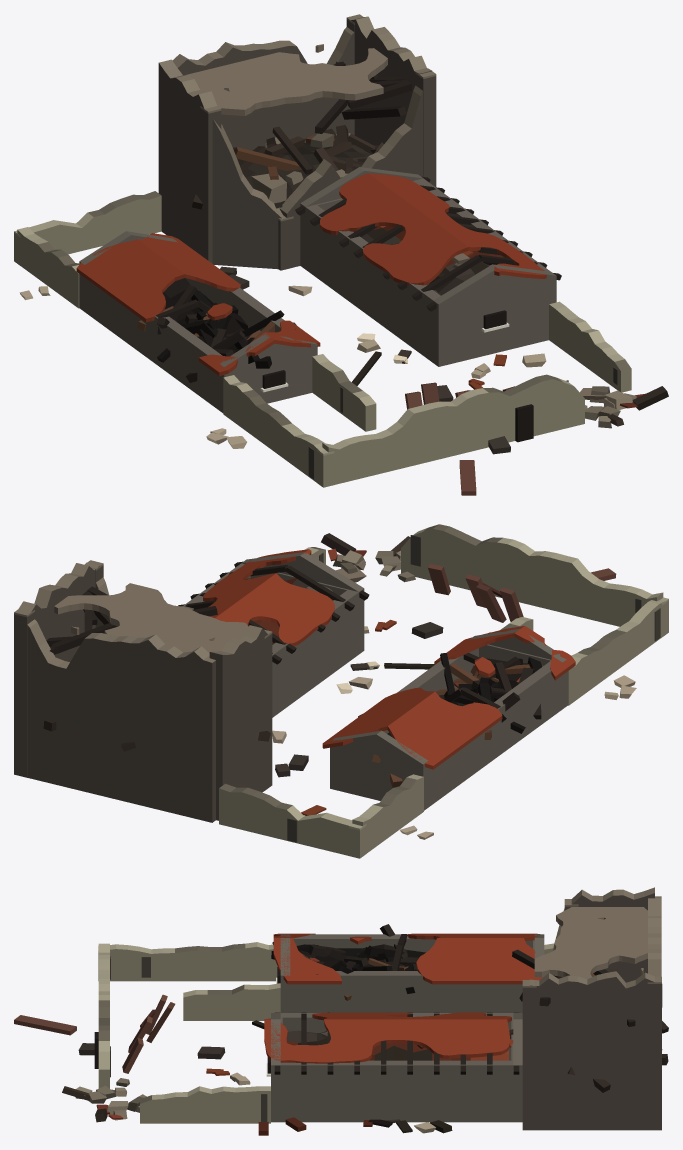
The model's file is VerBuild03a.glb.
3 renders of one model, top to bottom at view 1: azimuth 30°, elevation 25°; view 2: azimuth 150°, elevation 25°; view 3: azimuth 270°, elevation 25°, orthographic. The views are drawn at different scales.
Visible parts, largest first — view 1: VerBuild03a_flat; view 2: VerBuild03a_flat; view 3: VerBuild03a_flat.
Part boxes in pixels (left/top/right/bottom): VerBuild03a_flat: left=14, top=14, right=668, bottom=495; VerBuild03a_flat: left=14, top=524, right=668, bottom=858; VerBuild03a_flat: left=14, top=887, right=668, bottom=1135.
Bounding box in the file's own units: 11.19 × 4.55 × 17.51.
